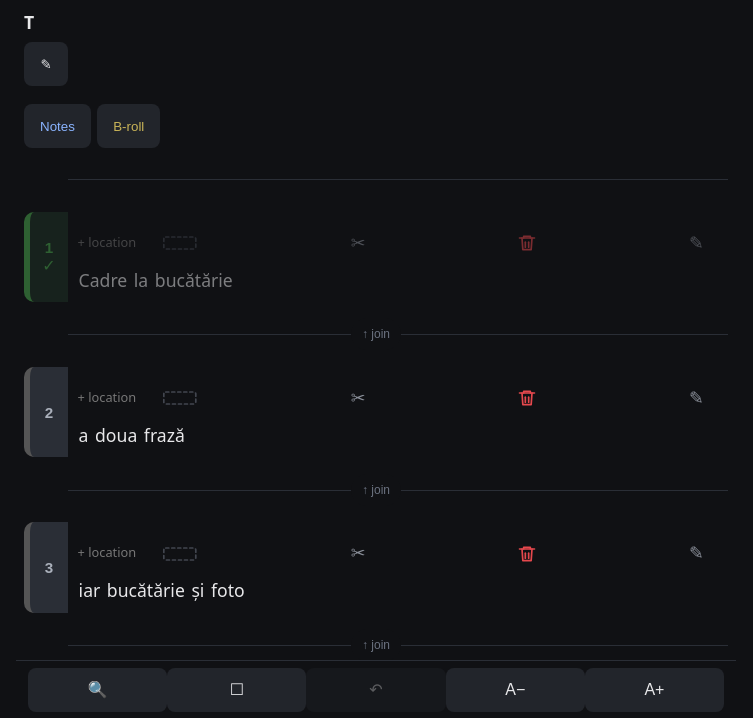
Test case: search within a video › highlights the matching words and says so when nothing matches
Click the button named "Search in video".
click(98, 690)  # box [28, 668, 167, 712]
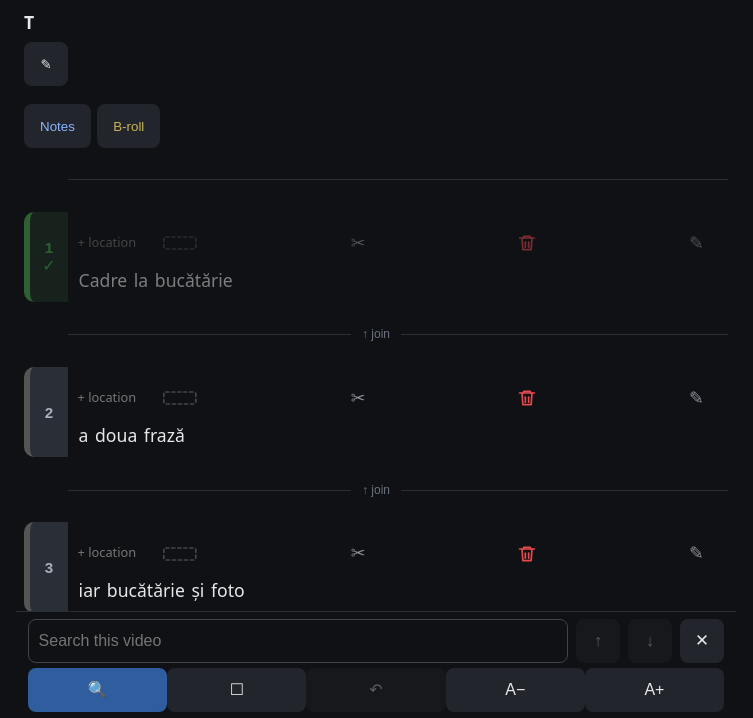
Type "foto" into the search field named "Search words".
click(298, 641); type("foto")  # box [28, 619, 568, 663]
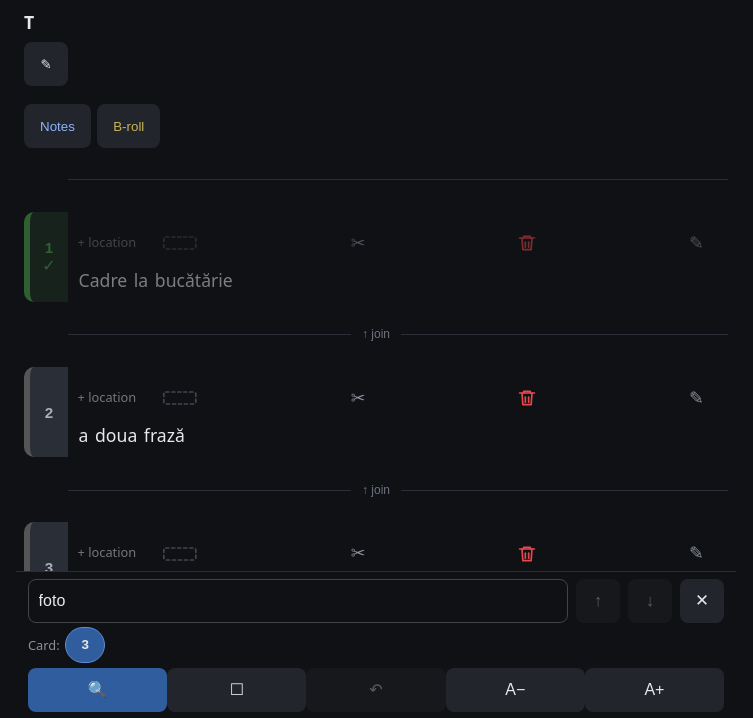
Replace the text in the search field named "Search words" with "zzz" at (298, 601), box [28, 579, 568, 623]
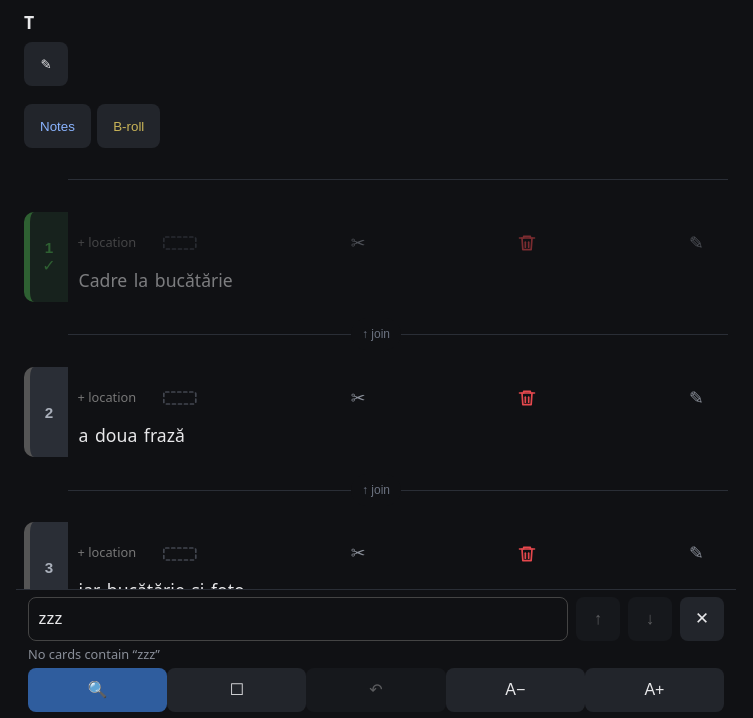
Now the text "No cards contain “zzz”" is shown, box [28, 645, 160, 663]
